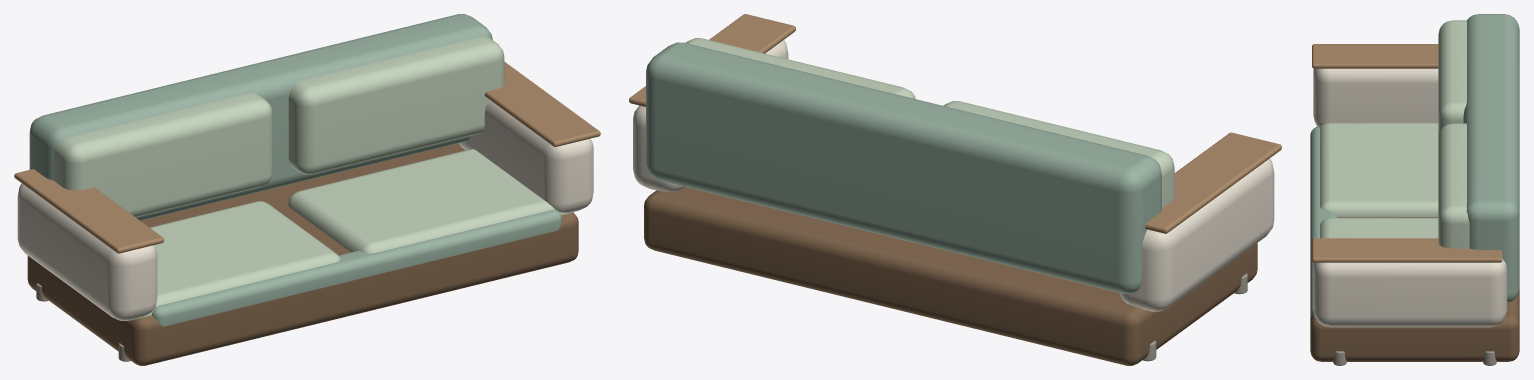
File: sofa.glb
The picture shows the model from 3 angles, left to right: view 1: azimuth 30°, elevation 25°; view 2: azimuth 150°, elevation 25°; view 3: azimuth 270°, elevation 25°; orthographic projection. The views are drawn at different scales.
Parts seen in each view (by area): view 1: Sofa plinth, Back cushion.001, Back cushion, Back upholstered frame, Seat cushion.001, Seat cushion, Rounded arm, Front upholstered rail, Rounded arm.001, Arm wood cap, Arm wood cap.001; view 2: Back upholstered frame, Sofa plinth, Rounded arm, Arm wood cap, Back cushion, Arm wood cap.001, Back cushion.001, Rounded arm.001; view 3: Back upholstered frame, Rounded arm.001, Seat cushion, Sofa plinth, Rounded arm, Arm wood cap.001, Back cushion.001, Arm wood cap, Back cushion, Seat cushion.001, Front upholstered rail.
Boxes of the visible parts, left/top/right/bottom form: Sofa plinth: left=27, top=143, right=578, bottom=365; Back cushion.001: left=288, top=36, right=504, bottom=174; Back cushion: left=54, top=93, right=272, bottom=217; Back upholstered frame: left=29, top=14, right=492, bottom=220; Seat cushion.001: left=288, top=149, right=573, bottom=253; Seat cushion: left=128, top=201, right=340, bottom=321; Rounded arm: left=17, top=183, right=157, bottom=320; Front upholstered rail: left=152, top=209, right=561, bottom=326; Rounded arm.001: left=459, top=100, right=593, bottom=212; Arm wood cap: left=14, top=169, right=164, bottom=253; Arm wood cap.001: left=484, top=61, right=600, bottom=146; Back upholstered frame: left=646, top=42, right=1161, bottom=293; Sofa plinth: left=644, top=187, right=1257, bottom=365; Rounded arm: left=1120, top=158, right=1274, bottom=311; Arm wood cap: left=1145, top=132, right=1281, bottom=233; Back cushion: left=943, top=101, right=1174, bottom=207; Arm wood cap.001: left=629, top=14, right=795, bottom=106; Back cushion.001: left=686, top=38, right=915, bottom=98; Rounded arm.001: left=633, top=40, right=788, bottom=192; Back upholstered frame: left=1463, top=14, right=1519, bottom=302; Rounded arm.001: left=1313, top=259, right=1507, bottom=327; Seat cushion: left=1320, top=123, right=1438, bottom=217; Sofa plinth: left=1310, top=126, right=1519, bottom=361; Rounded arm: left=1313, top=68, right=1438, bottom=126; Arm wood cap.001: left=1312, top=238, right=1502, bottom=262; Back cushion.001: left=1438, top=123, right=1469, bottom=248; Arm wood cap: left=1312, top=44, right=1438, bottom=68; Back cushion: left=1438, top=20, right=1466, bottom=136; Seat cushion.001: left=1320, top=218, right=1438, bottom=238; Front upholstered rail: left=1310, top=127, right=1337, bottom=317.
Size of the model in its own units: 1.63 by 0.56 by 0.67.
